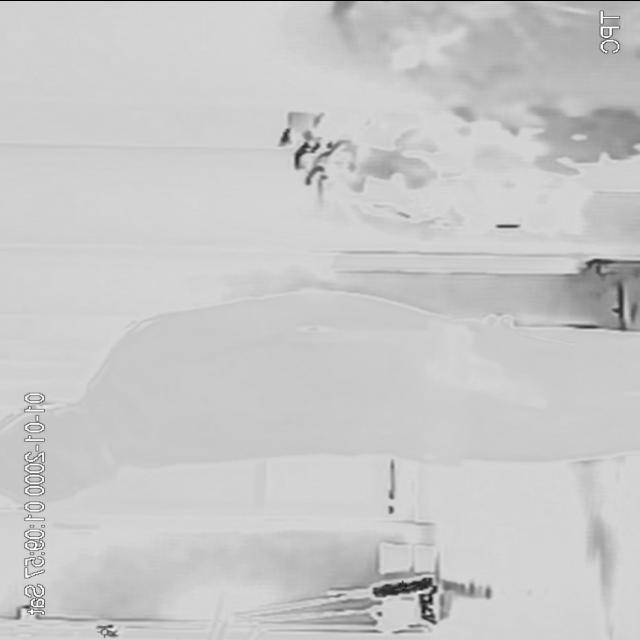Weapon: (414, 320, 570, 424)
